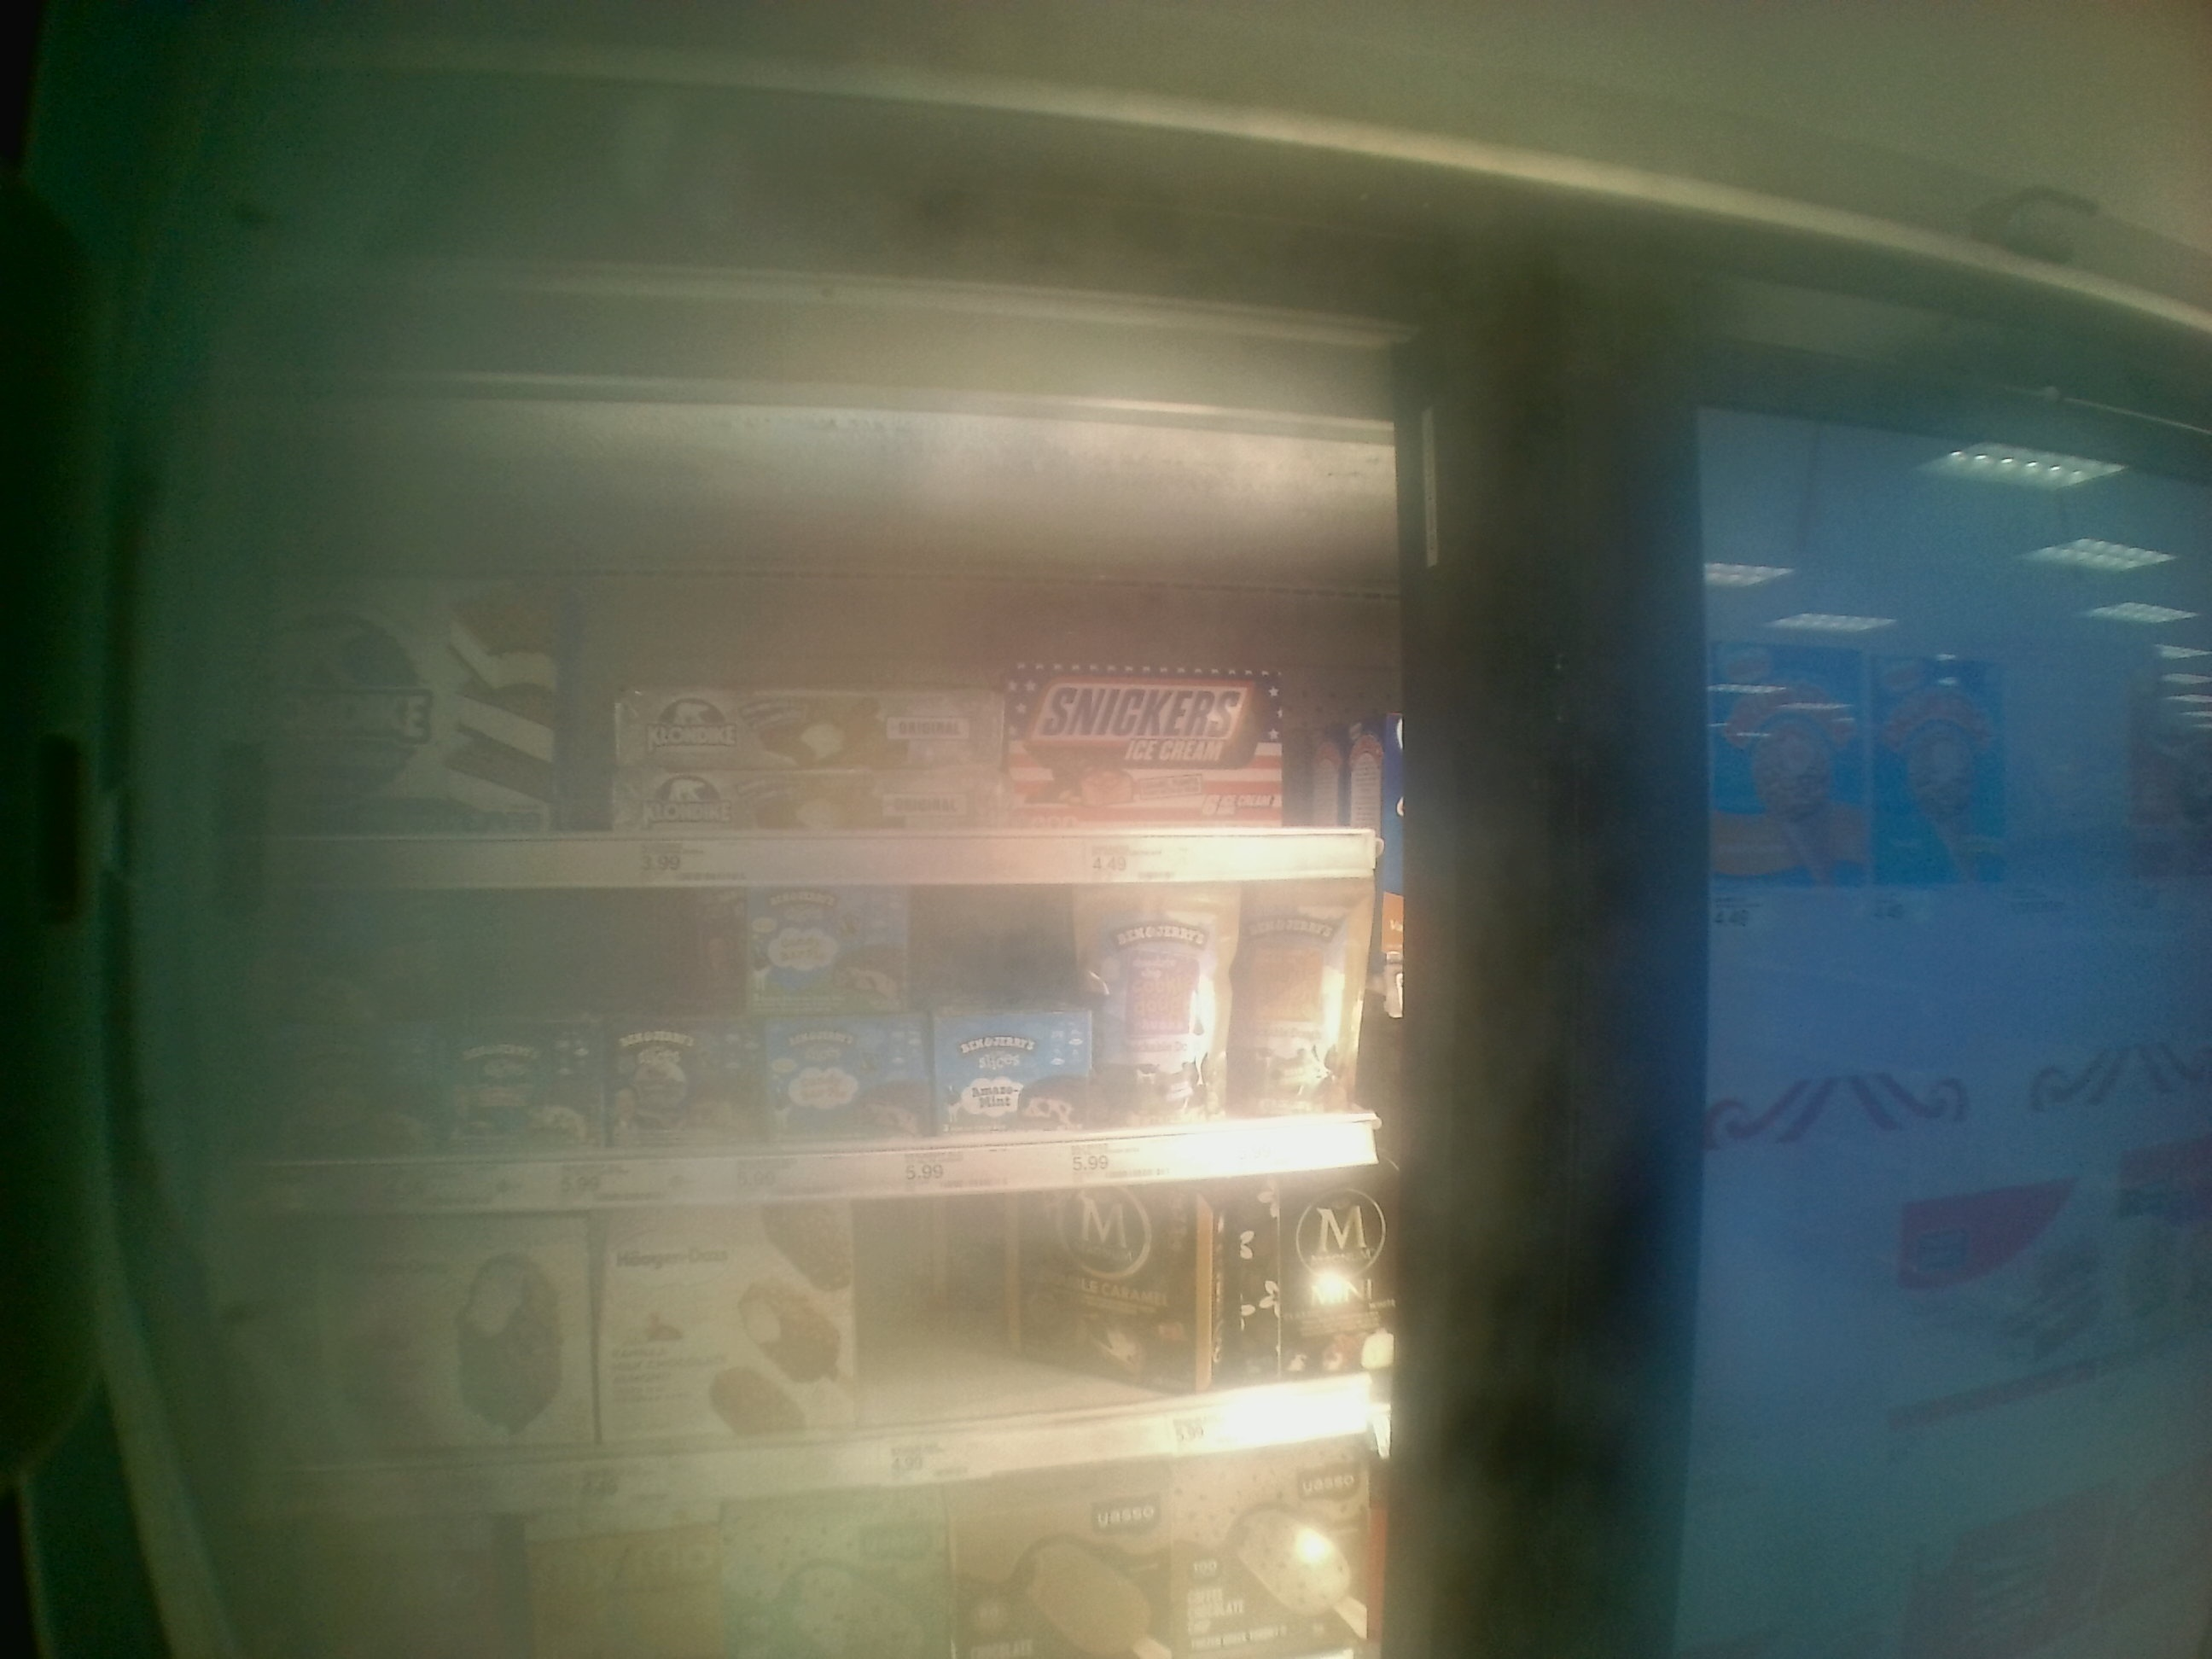shelf: (218, 889, 1400, 1211)
